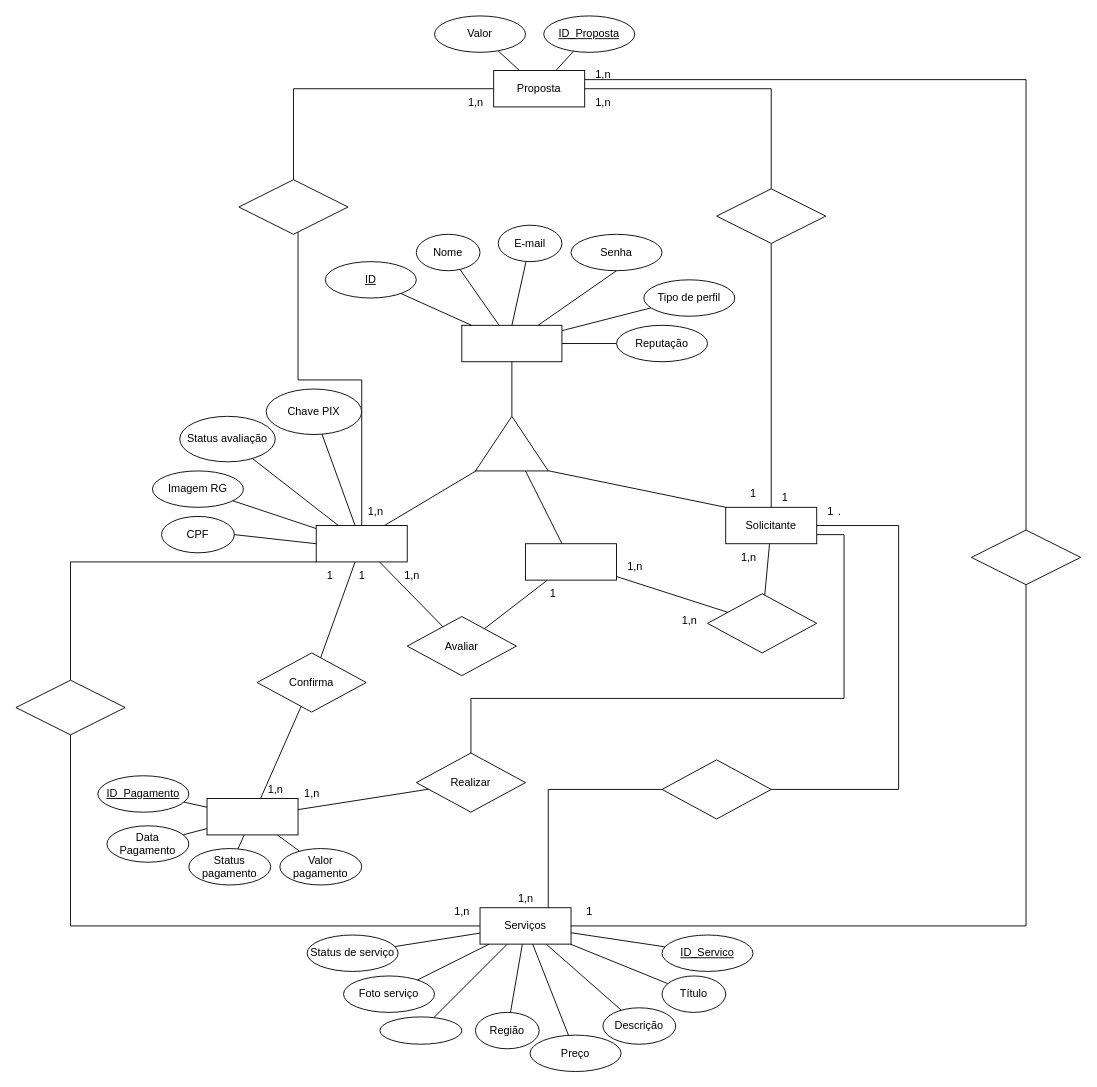
This 1097x1087 diagram has some shape labels left out. Here are the shapes that lost their labels. From the top down, the centre of each, then its label:
the point at 293,206: Enviar
the point at 771,215: Receber
the point at 511,343: Usuário
the point at 361,543: Prestador
the point at 571,561: Administrador
the point at 1026,557: Possui
the point at 762,623: Gerenciar
the point at 70,707: Presta
the point at 716,789: Solicitar
the point at 252,816: Pagamento
the point at 420,1030: Categoria
